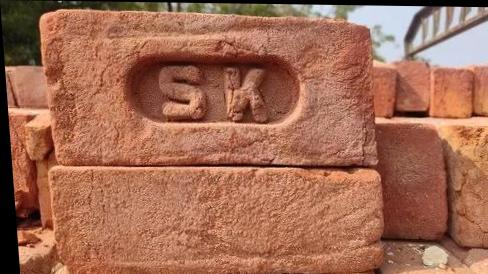brick: (43, 13, 377, 168), (49, 164, 385, 274), (374, 124, 447, 244), (444, 125, 488, 249), (428, 67, 477, 117), (395, 62, 431, 115), (372, 66, 397, 118), (471, 67, 488, 116)
